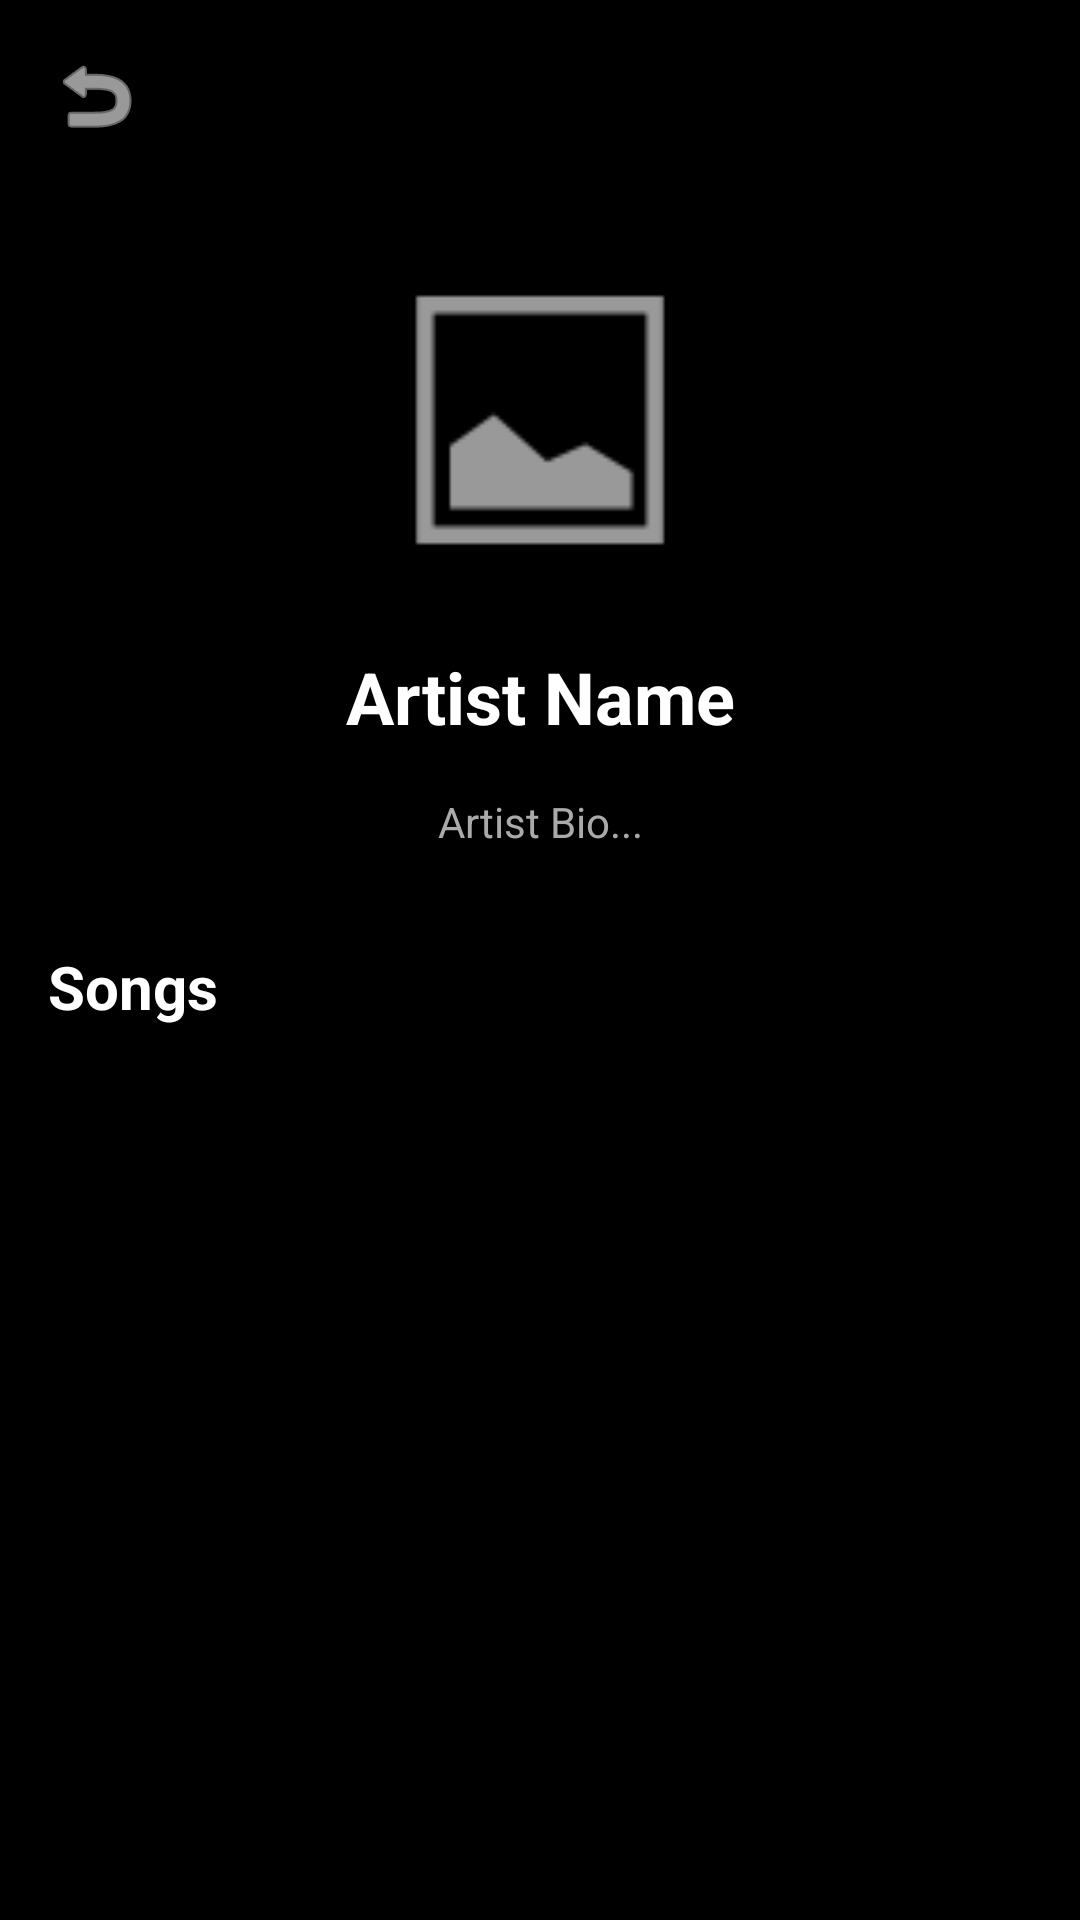

Icon bounding boxes for this 1080 × 1920 phone screenshot, format box(x1, y1, x2, y2):
gallery: box(415, 295, 665, 545)
revert: box(63, 65, 132, 128)
